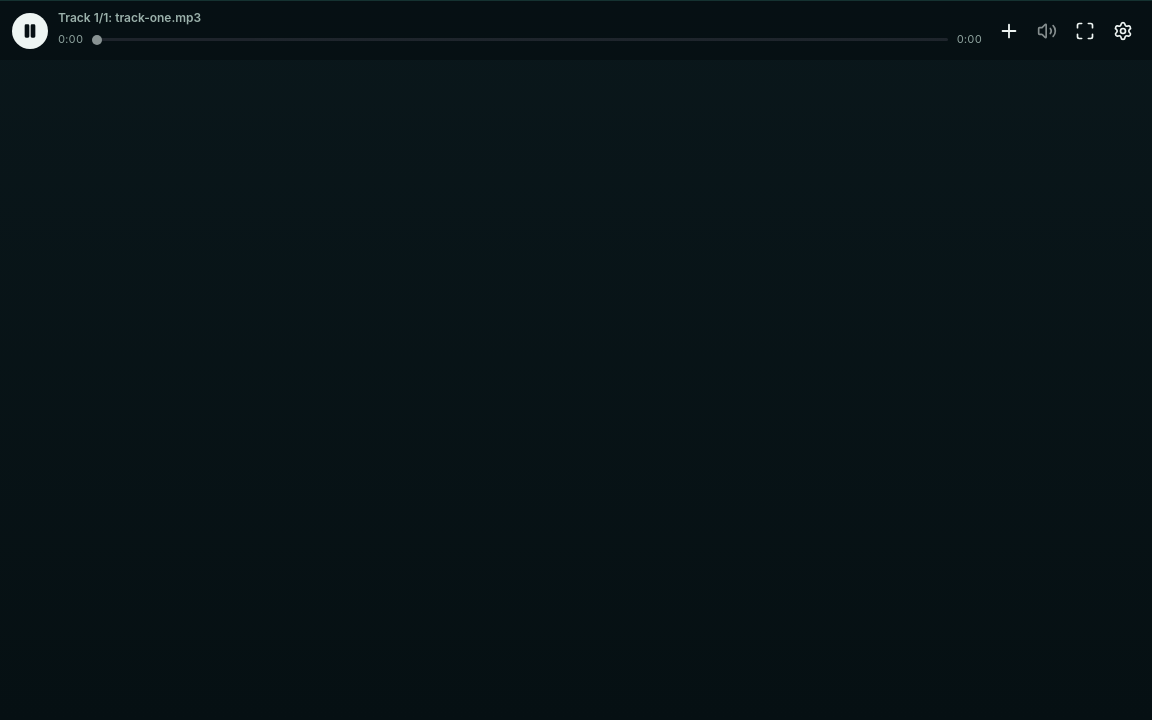
Test case: MagePlayer recovery › retains a manual pause when retry replaces the renderer
The image size is (1152, 720).
Click the button named "Pause scene and audio playback": (30, 30) [12, 12, 48, 48]
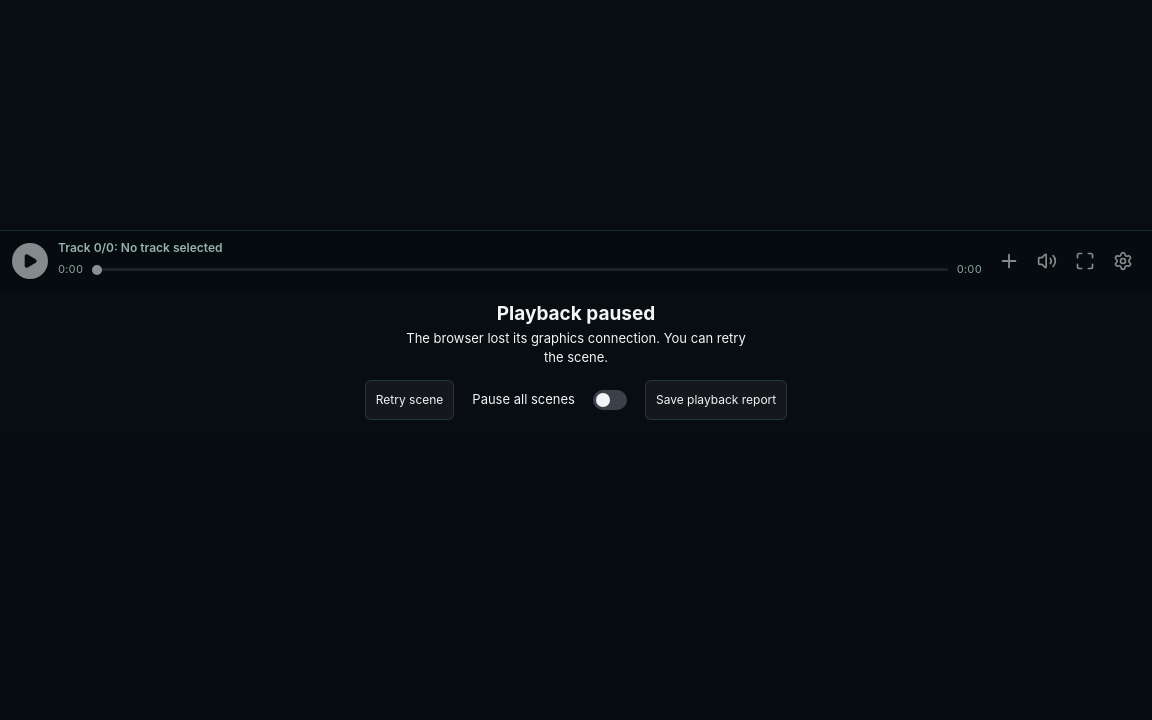
Click the button "Retry scene": (410, 400) [365, 380, 454, 420]
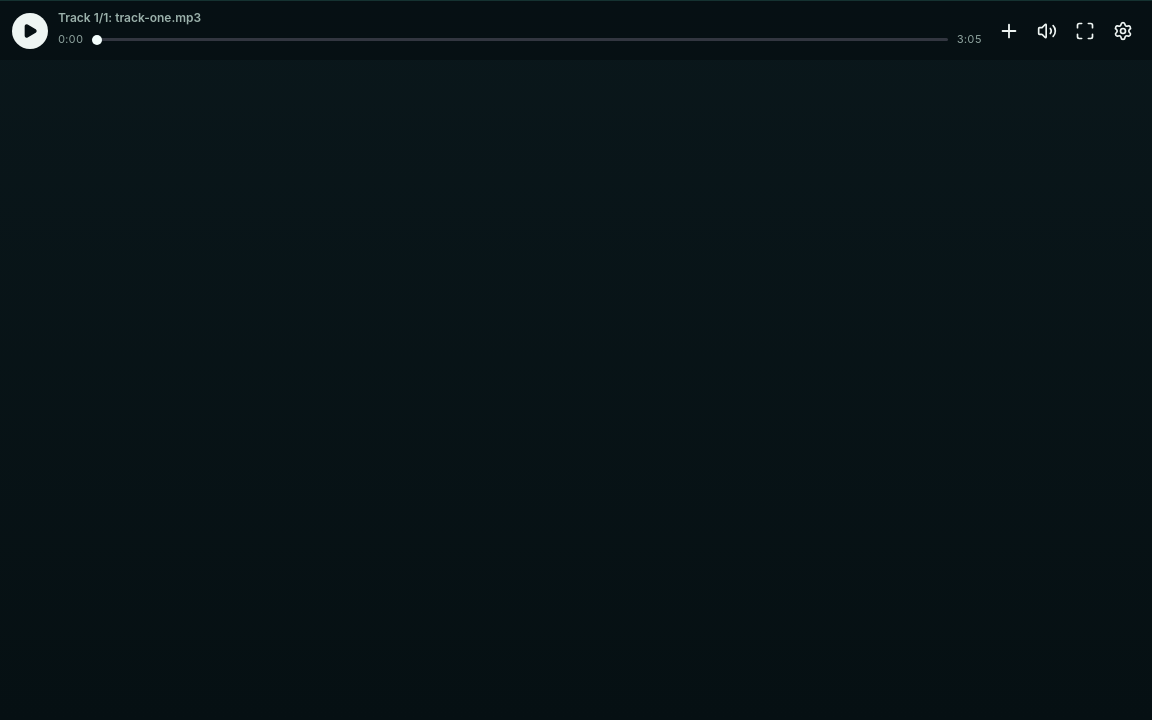
Result: the button named "Play scene and audio playback" is enabled at [12, 12, 48, 48]
